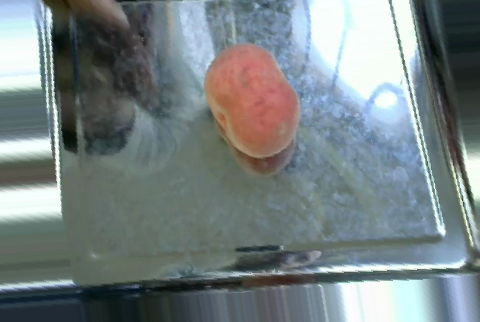Peach: (208, 45, 297, 156)
